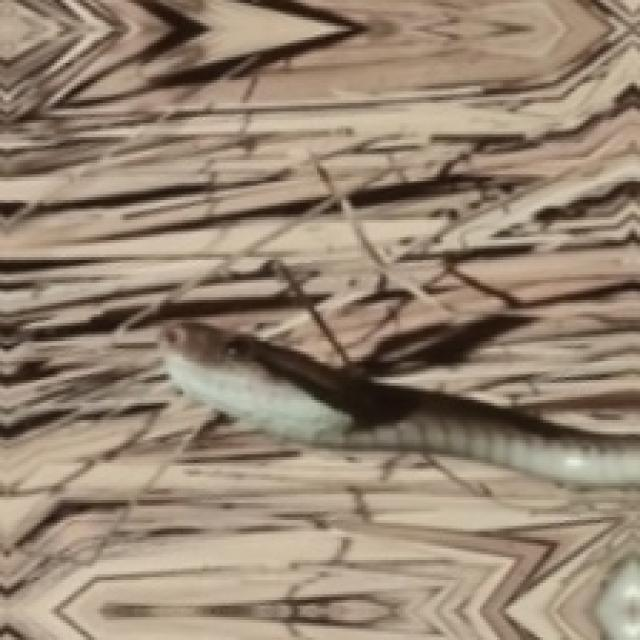dog-toothed cat snake: (160, 323, 637, 483)
